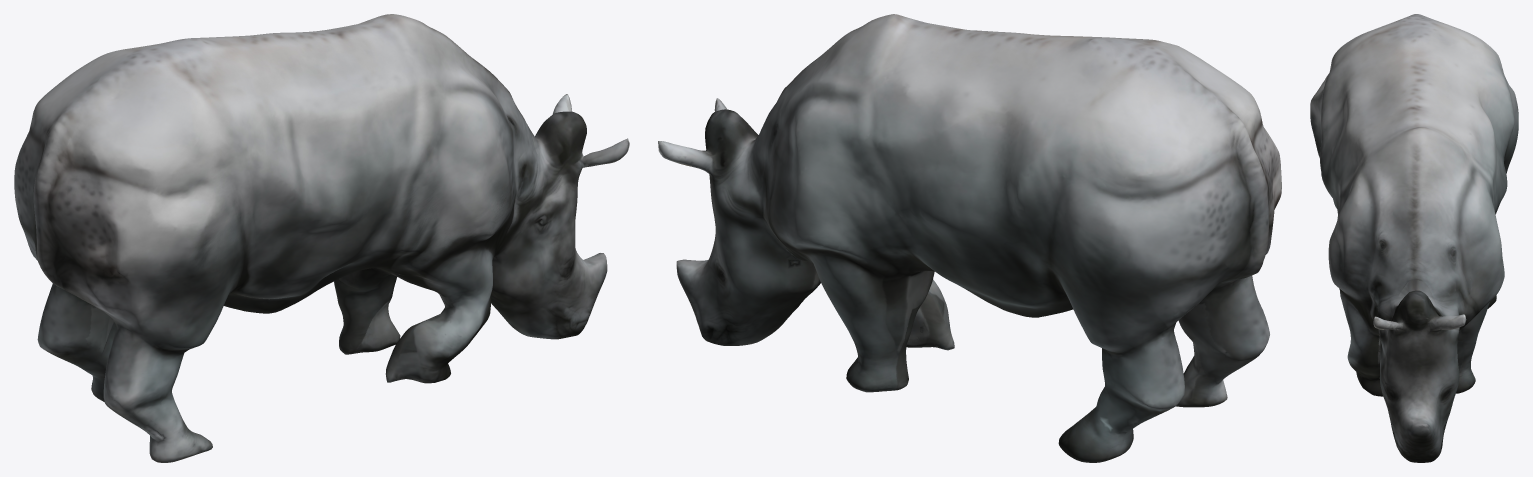
The model's file is taman_wisata_ujung_ku_0710175929.fbx.
The picture shows the model from 3 angles, left to right: view 1: azimuth 30°, elevation 25°; view 2: azimuth 150°, elevation 25°; view 3: azimuth 270°, elevation 25°; orthographic projection. The views are drawn at different scales.
Visible parts, largest first — view 1: Mesh_0; view 2: Mesh_0; view 3: Mesh_0.
Boxes of the visible parts, left/top/right/bottom form: Mesh_0: left=14, top=14, right=629, bottom=462; Mesh_0: left=658, top=14, right=1281, bottom=462; Mesh_0: left=1310, top=14, right=1518, bottom=462.
Bounding box in the file's own units: 120 × 76.54 × 50.17.
1 material, 1 textured.
